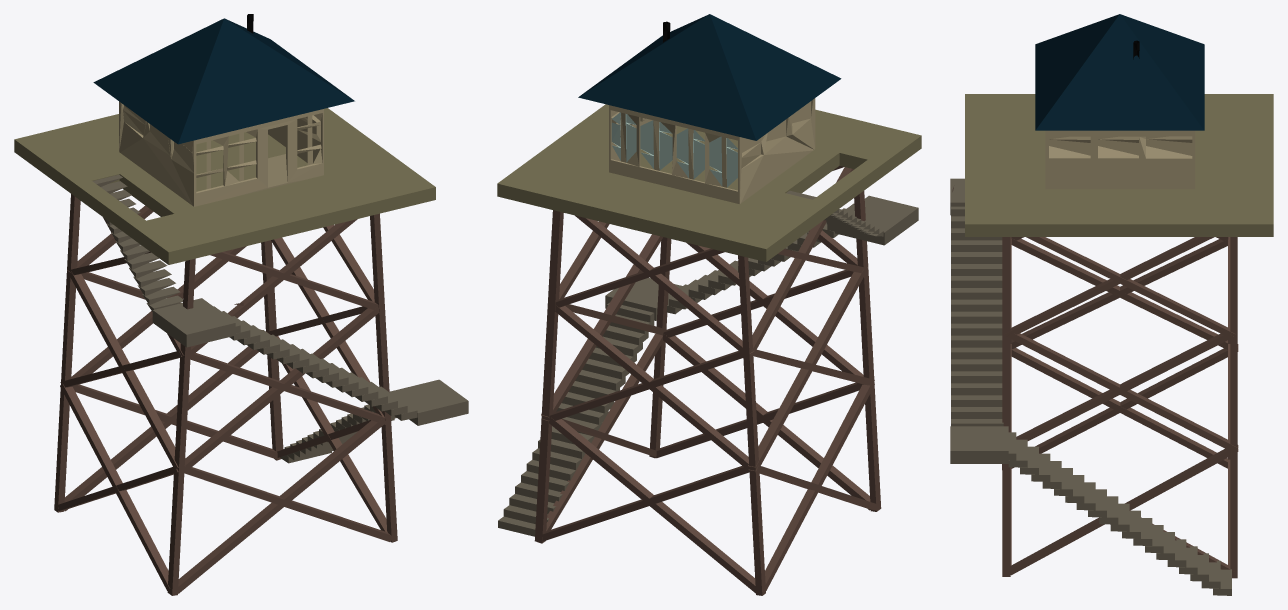
The model's file is fire-lookout.lod2.glb.
3 renders of one model, left to right at view 1: azimuth 30°, elevation 25°; view 2: azimuth 150°, elevation 25°; view 3: azimuth 270°, elevation 25°, orthographic.
Visible parts, largest first — view 1: Object_4; view 2: Object_4; view 3: Object_4.
Part boxes in pixels (x1,y1,x2,y2): Object_4: [14, 14, 468, 595]; Object_4: [497, 14, 921, 595]; Object_4: [950, 14, 1273, 595].
Bounding box in the file's own units: 9.33 × 15.51 × 8.93.
